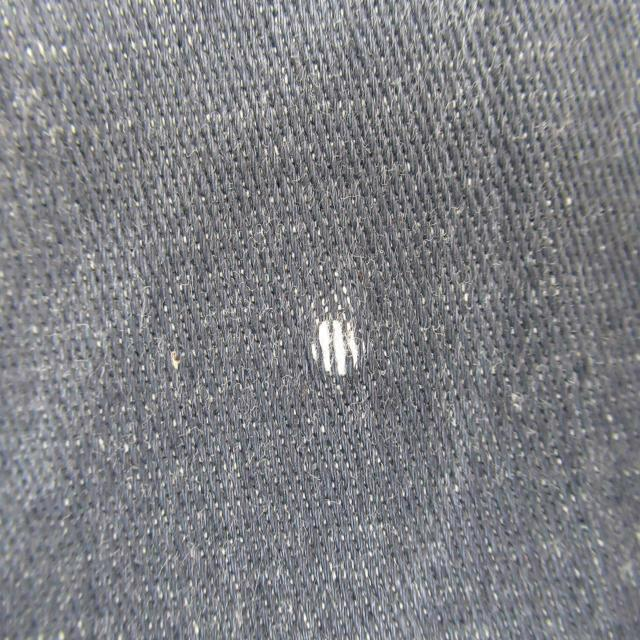pulled_or_thick_thread: (310, 322, 361, 383)
